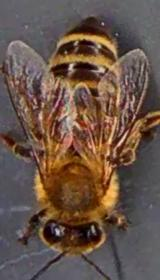varroa_mite: (72, 114, 96, 135)
